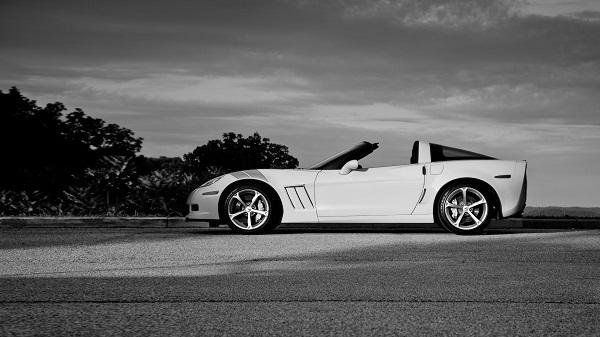car: (181, 130, 535, 240)
